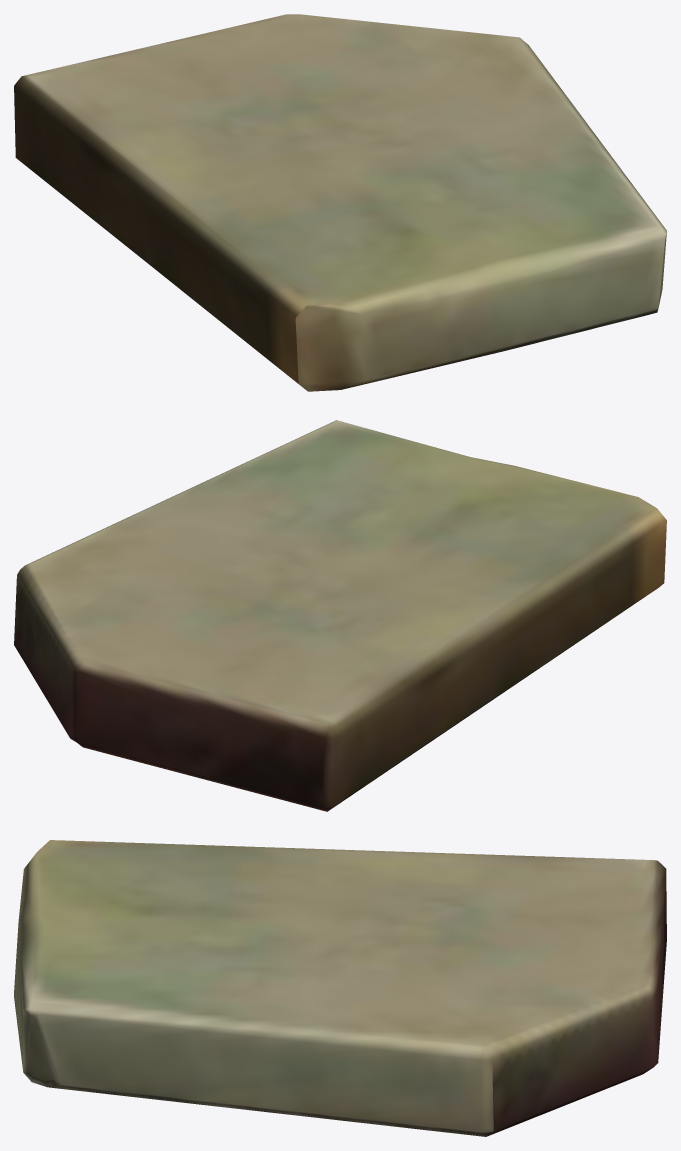
Rendered from RockPack006.fbx.
3 views of the same model, one above another, from view 1: azimuth 30°, elevation 25°; view 2: azimuth 150°, elevation 25°; view 3: azimuth 270°, elevation 25° (orthographic). The views are drawn at different scales.
Parts seen in each view (by area): view 1: RockPack006; view 2: RockPack006; view 3: RockPack006.
Part boxes in pixels (x1,y1,x2,y2): RockPack006: (14, 14, 666, 391); RockPack006: (14, 420, 666, 811); RockPack006: (14, 840, 666, 1136).
Size of the model in its own units: 162 by 33.83 by 206.
1 material, 1 textured.
